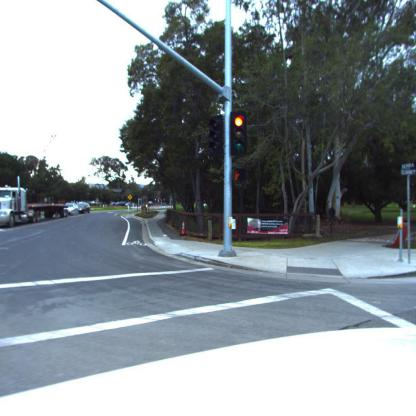car: (65, 202, 91, 214), (77, 202, 90, 214)
truck: (0, 188, 30, 226)
